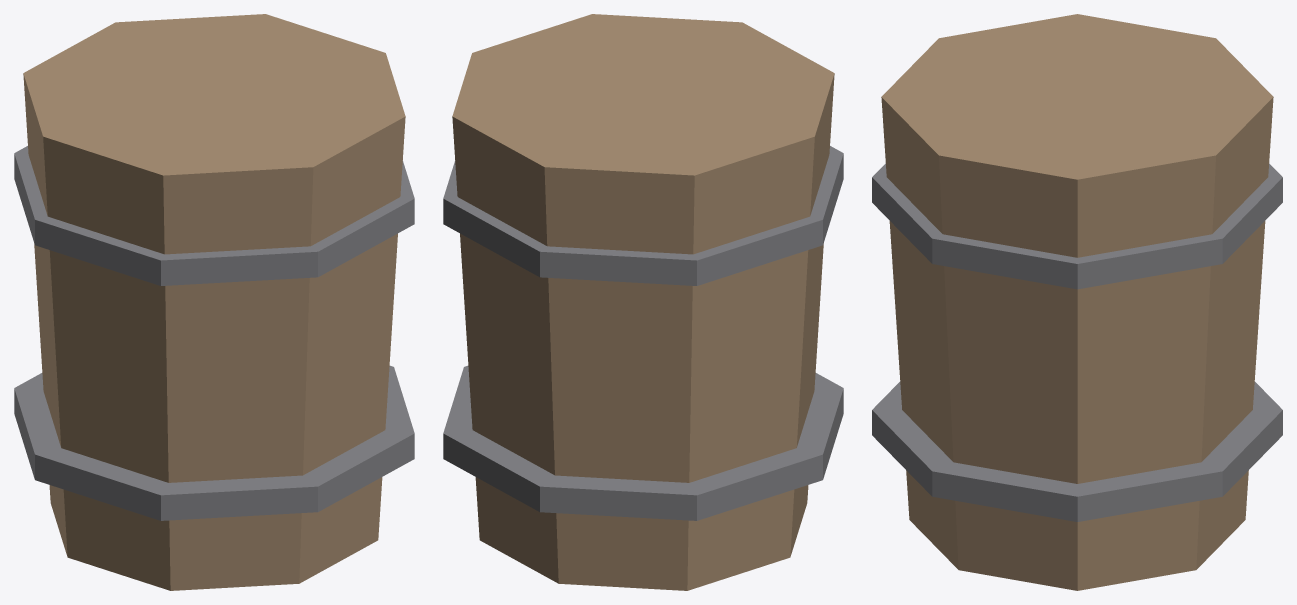
3 renders of one model, left to right at view 1: azimuth 30°, elevation 25°; view 2: azimuth 150°, elevation 25°; view 3: azimuth 270°, elevation 25°, orthographic.
Parts seen in each view (by area): view 1: structure.barrel; view 2: structure.barrel; view 3: structure.barrel.
Part boxes in pixels (x1,y1,x2,y2): structure.barrel: (14,14,414,590); structure.barrel: (443,14,843,590); structure.barrel: (872,14,1282,590).
Bounding box in the file's own units: 0.88 × 1 × 0.88.
